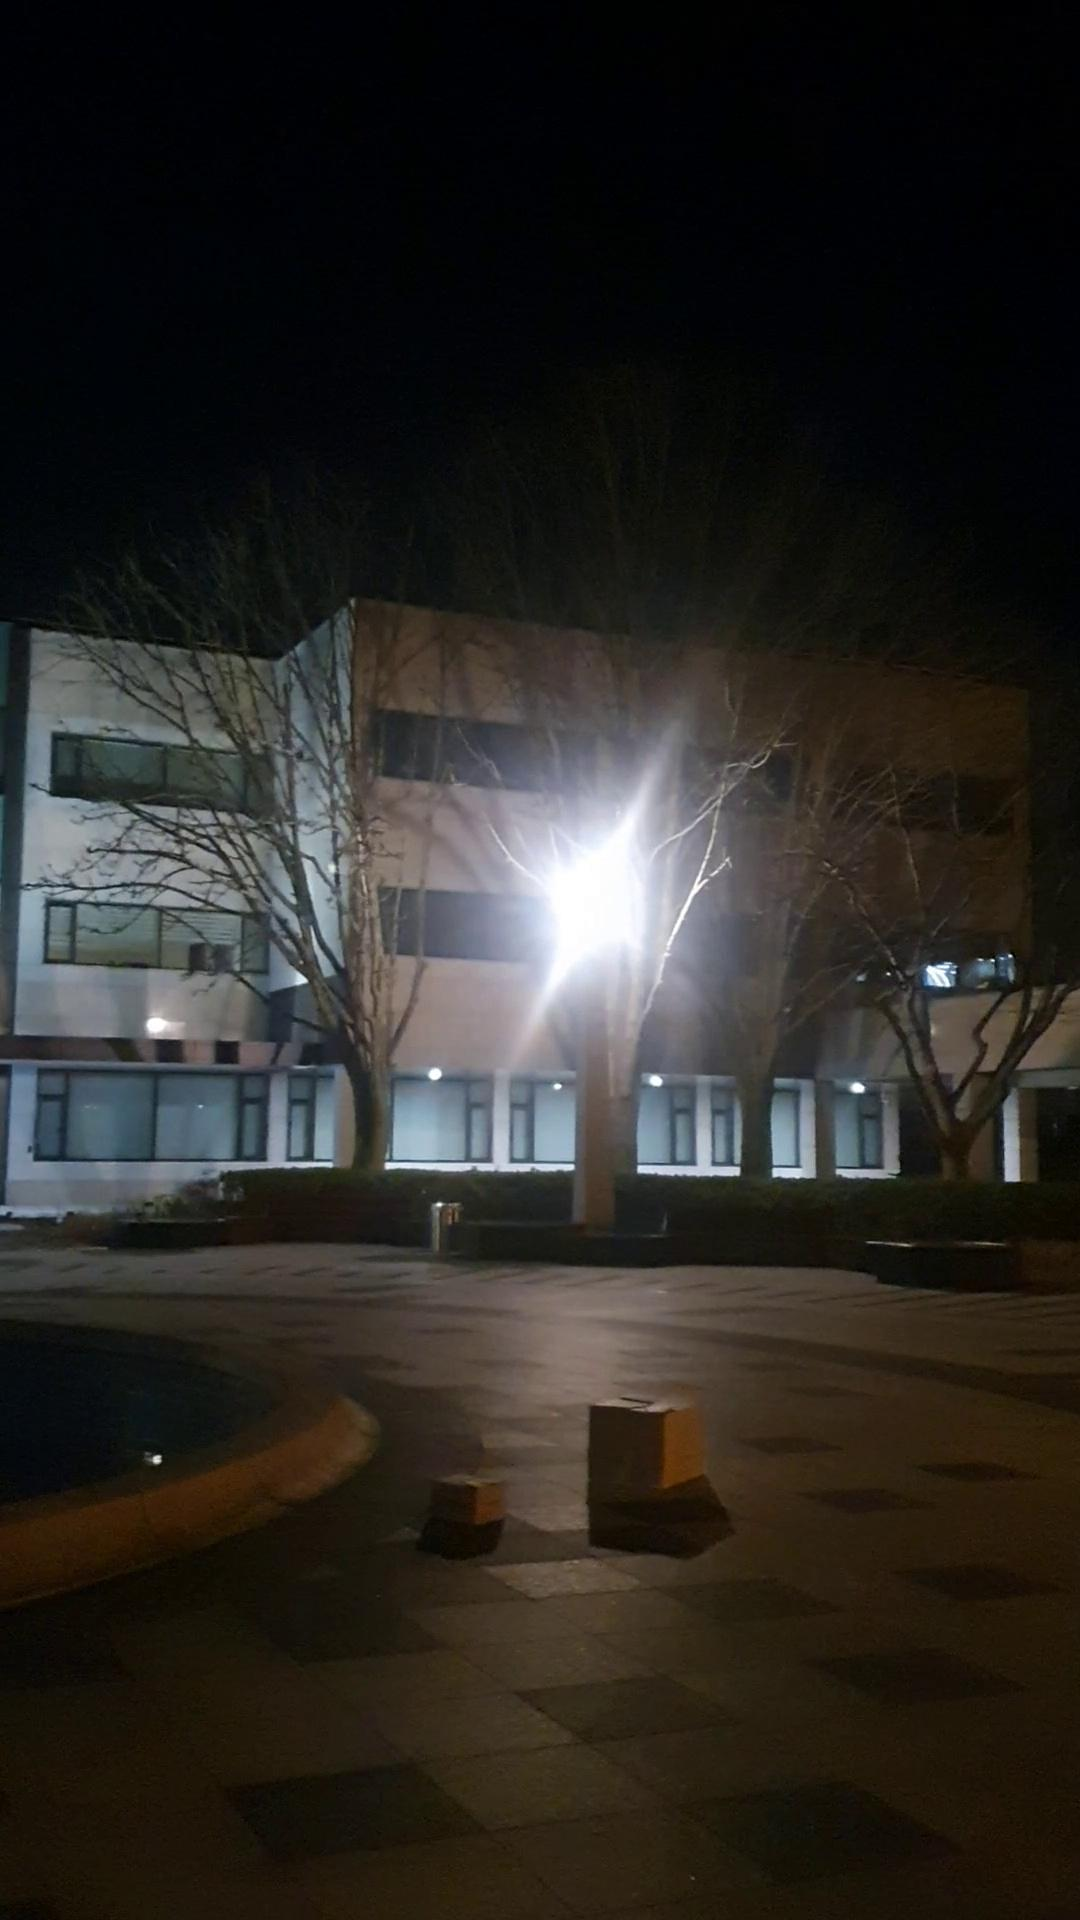Box: (582, 1393, 720, 1509), (426, 1470, 518, 1530)
